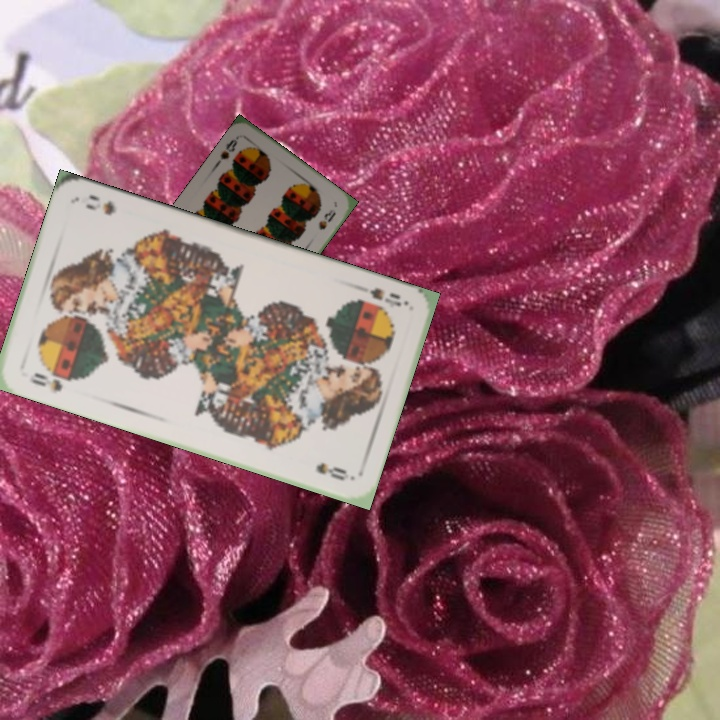S8: (216, 132, 241, 162)
SO: (26, 368, 65, 395), (366, 283, 404, 310)
